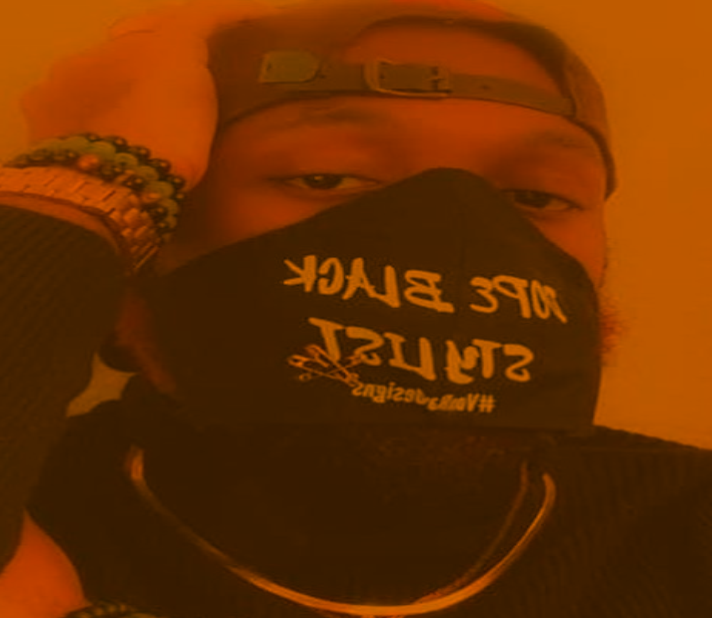mask_weared_incorrect: (81, 0, 644, 504)
